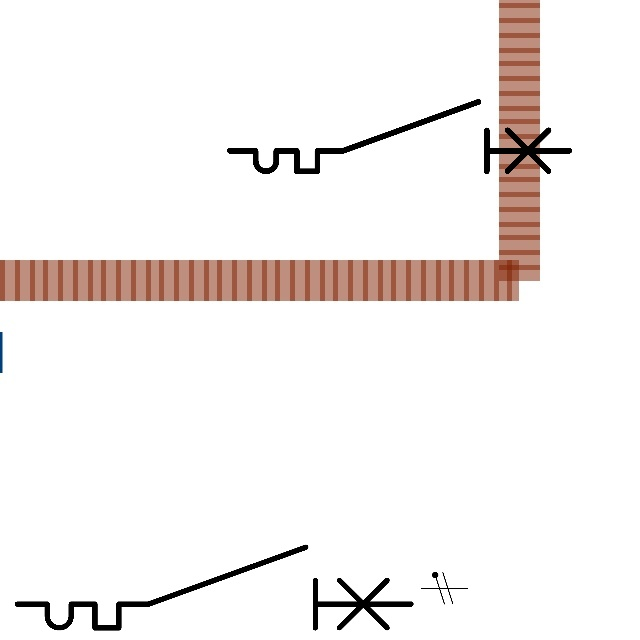interruptor_termomagnetico: (7, 537, 421, 638), (221, 93, 578, 180)
